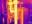Hotspot: (7, 0, 23, 23)
